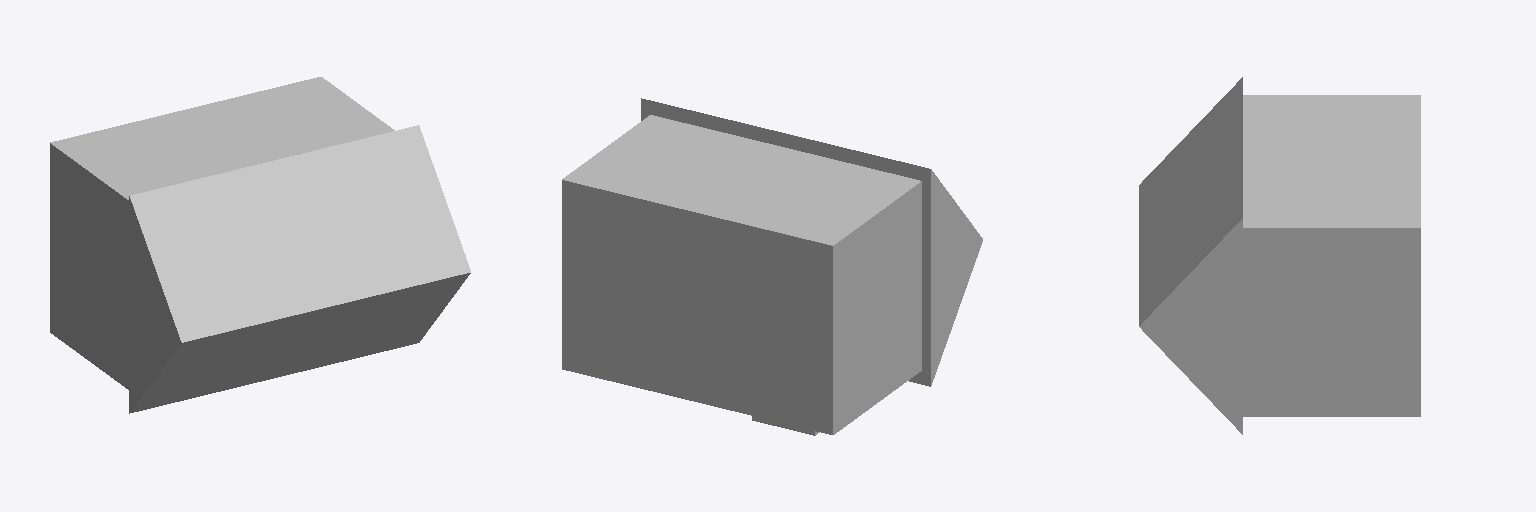
Rendered from House.obj.
The picture shows the model from 3 angles: view 1: azimuth 30°, elevation 25°; view 2: azimuth 150°, elevation 25°; view 3: azimuth 270°, elevation 25°; orthographic projection.
Parts seen in each view (by area): view 1: obj_0; view 2: obj_0; view 3: obj_0.
Part boxes in pixels (x1,y1,x2,y2): obj_0: (50,77,470,413); obj_0: (562,98,982,435); obj_0: (1139,77,1420,434).
Bounding box in the file's own units: 32 × 23 × 27.